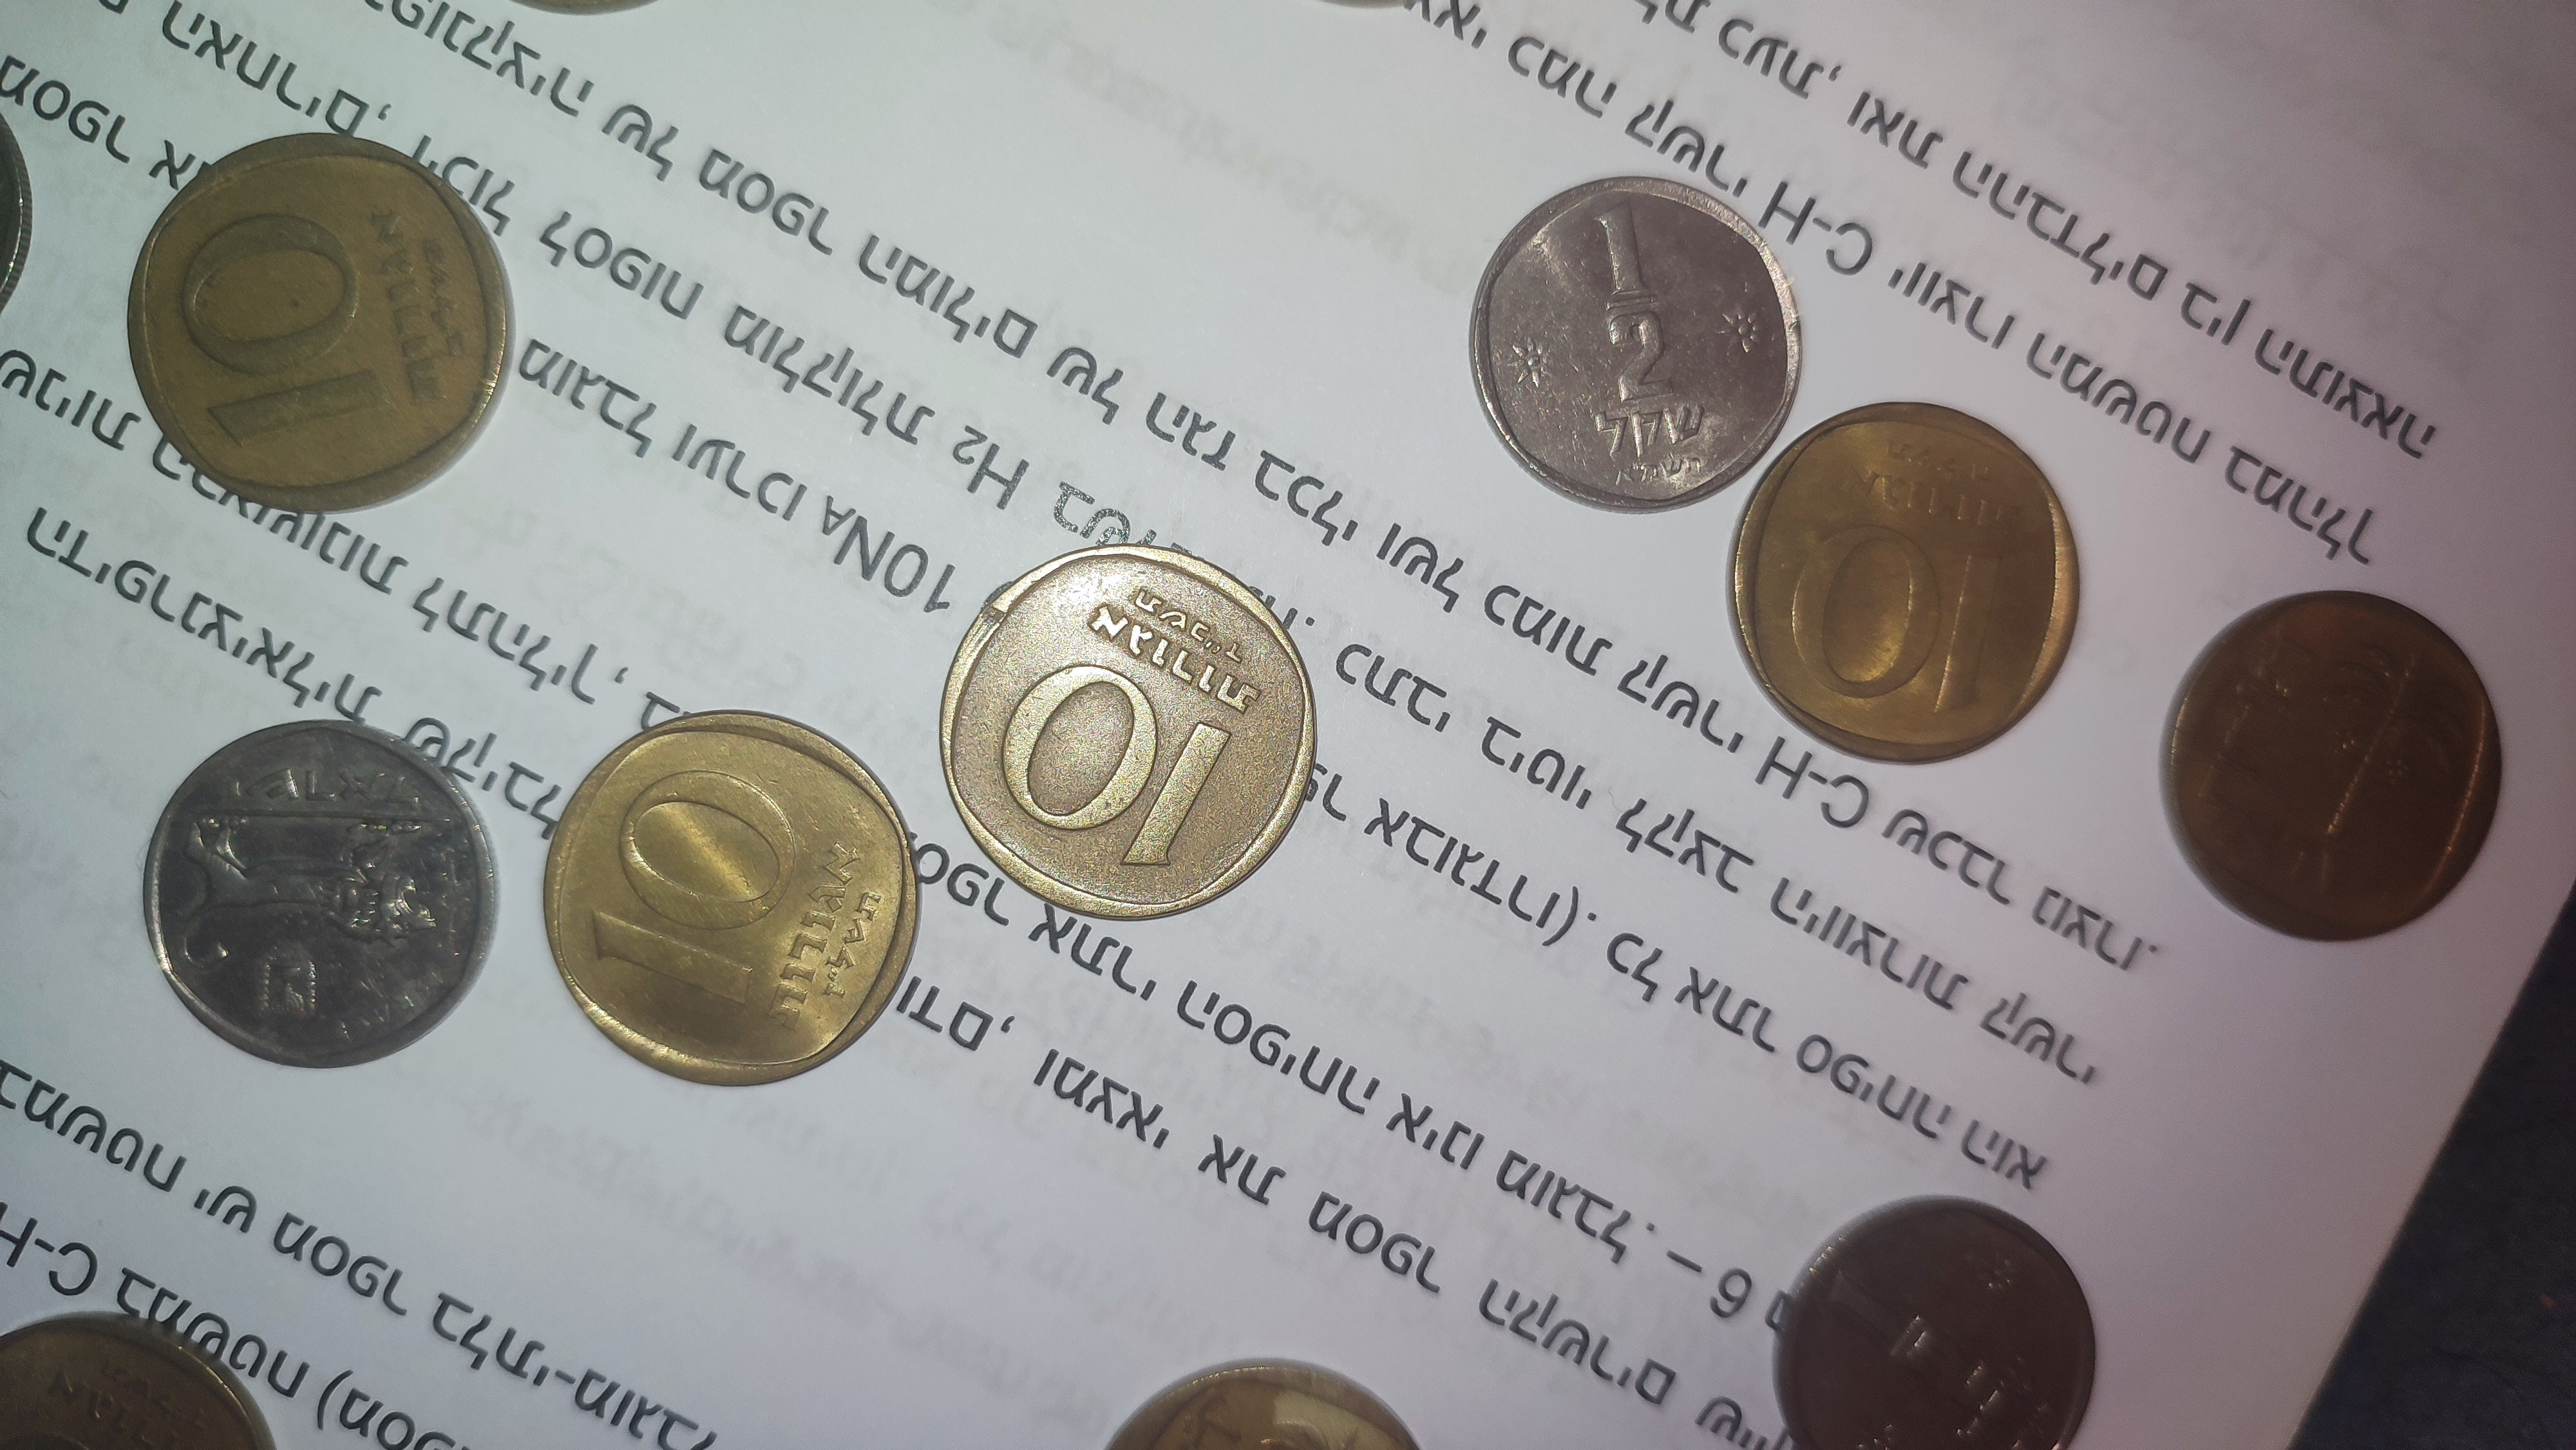1/2 old sheqel: (140, 718, 499, 1070), (1465, 173, 1806, 518), (1769, 1192, 2104, 1450)
10 old agora brown: (119, 127, 517, 520), (536, 702, 925, 1093), (936, 539, 1320, 925), (1723, 398, 2088, 771), (2157, 589, 2511, 948)
